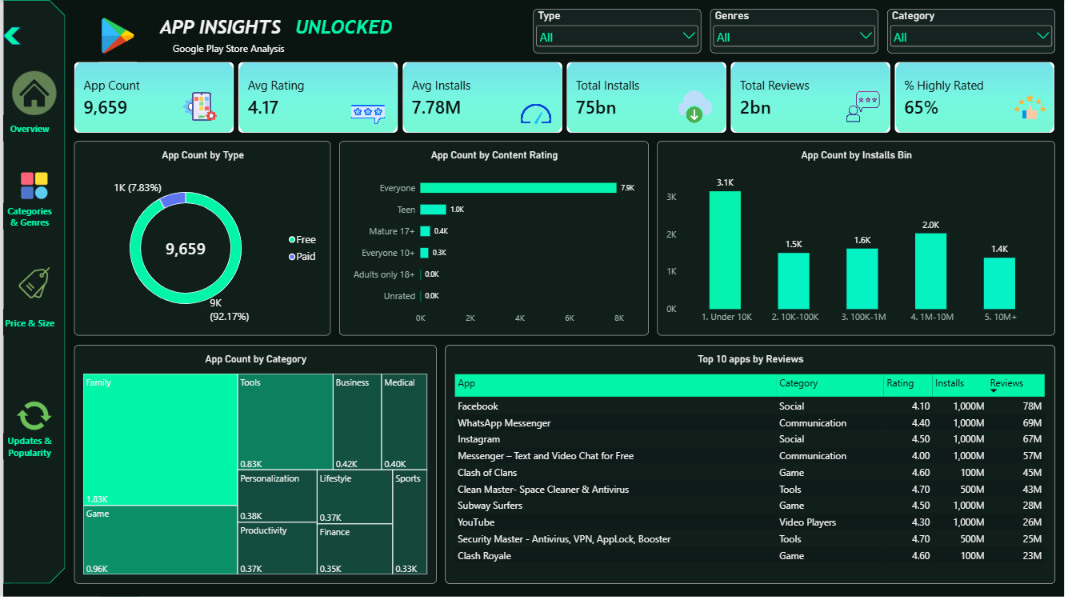

The page's visual inventory and layout, read from the dashboard file:
{"tool":"powerbi","page":{"name":"Dashboard","canvas":[1920,1080],"ordinal":0},"visuals":[{"type":"shape","box":[0,0,16,1056],"z":0},{"type":"shape","box":[240,16,304,64],"z":0,"group":"g2"},{"type":"cardVisual","fields":{"Data":["googleplaystore.App Count","googleplaystore.Avg Rating","googleplaystore.Avg Installs","googleplaystore.Total Installs","googleplaystore.Total Reviews","googleplaystore.% Highly Rated"]},"box":[128,112,1776,128],"z":0,"group":"g1"},{"type":"shape","box":[0,0,112,1056],"z":1000},{"type":"shape","box":[512,16,208,64],"z":1000,"group":"g2"},{"type":"donutChart","title":"App Count by Type","fields":{"Category":["googleplaystore.Type"],"Y":["googleplaystore.App Count"]},"box":[128,256,464,352],"z":2000},{"type":"clusteredBarChart","title":"App Count by Content Rating","fields":{"Category":["googleplaystore.Content Rating"],"Y":["googleplaystore.App Count"]},"box":[608,256,560,352],"z":3000},{"type":"clusteredColumnChart","title":"App Count by Installs Bin","fields":{"Category":["googleplaystore.Installs Bin"],"Y":["googleplaystore.App Count"]},"box":[1184,256,720,352],"z":4000},{"type":"treemap","title":"App Count by Category","fields":{"Group":["googleplaystore.Category"],"Values":["googleplaystore.App Count"]},"box":[128,624,656,432],"z":5000},{"type":"tableEx","title":"Top 10 apps by Reviews","fields":{"Values":["googleplaystore.App","googleplaystore.Category","googleplaystore.Rating","googleplaystore.Installs","googleplaystore.Reviews"]},"box":[800,624,1104,432],"z":6000},{"type":"slicer","fields":{"Values":["googleplaystore.Category"]},"box":[1600,16,304,80],"z":7000},{"type":"slicer","fields":{"Values":["googleplaystore.Genres"]},"box":[1280,16,304,80],"z":8000},{"type":"slicer","fields":{"Values":["googleplaystore.Type"]},"box":[960,16,304,80],"z":9000},{"type":"image","box":[325.3,160,60.7,64],"z":9000,"group":"g1"},{"type":"image","box":[1524.5,160,60.7,64],"z":10000,"group":"g1"},{"type":"image","box":[1828.1,160,60.7,64],"z":11000,"group":"g1"},{"type":"image","box":[628.9,176,60.7,64],"z":12000,"group":"g1"},{"type":"image","box":[932.5,176,60.7,64],"z":13000,"group":"g1"},{"type":"image","box":[1220.9,160,60.7,64],"z":14000,"group":"g1"},{"type":"group","id":"g1","title":"Group 1","box":[128,112,1776,128],"z":19000},{"type":"group","id":"g2","title":"Group 2","box":[240,16,480,64],"z":20000},{"type":"shape","box":[304,64,208,48],"z":21000},{"type":"image","box":[176,32,64,64],"z":22000},{"type":"shape","box":[0,48,32,32],"z":24000},{"type":"image","title":"Overview","box":[16,304,80,64],"z":25000},{"type":"image","title":"Overview","box":[16,480,80,64],"z":26000},{"type":"image","title":"Overview","box":[16,720,80,64],"z":27000},{"type":"image","title":"Overview","box":[16,128,80,80],"z":28000},{"type":"shape","box":[0,208,96,48],"z":29000},{"type":"shape","box":[0,368,96,48],"z":30000},{"type":"shape","box":[0,560,96,48],"z":31000},{"type":"shape","box":[0,784,96,48],"z":32000}]}

Visuals, with their boxes in screenshot pixels (x1, y1, x2, y2):
shape: <box>0,0,9,575</box>
shape: <box>131,9,296,44</box>
cardVisual - googleplaystore.App Count x googleplaystore.Avg Rating: <box>70,61,1037,131</box>
shape: <box>0,0,61,575</box>
shape: <box>279,9,392,44</box>
"App Count by Type" donutChart: <box>70,139,322,331</box>
"App Count by Content Rating" clusteredBarChart: <box>331,139,636,331</box>
"App Count by Installs Bin" clusteredColumnChart: <box>645,139,1037,331</box>
"App Count by Category" treemap: <box>70,340,427,575</box>
"Top 10 apps by Reviews" tableEx: <box>436,340,1037,575</box>
slicer - googleplaystore.Category: <box>871,9,1037,52</box>
slicer - googleplaystore.Genres: <box>697,9,862,52</box>
slicer - googleplaystore.Type: <box>523,9,688,52</box>
image: <box>177,87,210,122</box>
image: <box>830,87,863,122</box>
image: <box>995,87,1028,122</box>
image: <box>342,96,375,131</box>
image: <box>508,96,541,131</box>
image: <box>665,87,698,122</box>
"Group 1" group: <box>70,61,1037,131</box>
"Group 2" group: <box>131,9,392,44</box>
shape: <box>166,35,279,61</box>
image: <box>96,17,131,52</box>
shape: <box>0,26,17,44</box>
"Overview" image: <box>9,166,52,200</box>
"Overview" image: <box>9,261,52,296</box>
"Overview" image: <box>9,392,52,427</box>
"Overview" image: <box>9,70,52,113</box>
shape: <box>0,113,52,139</box>
shape: <box>0,200,52,227</box>
shape: <box>0,305,52,331</box>
shape: <box>0,427,52,453</box>
